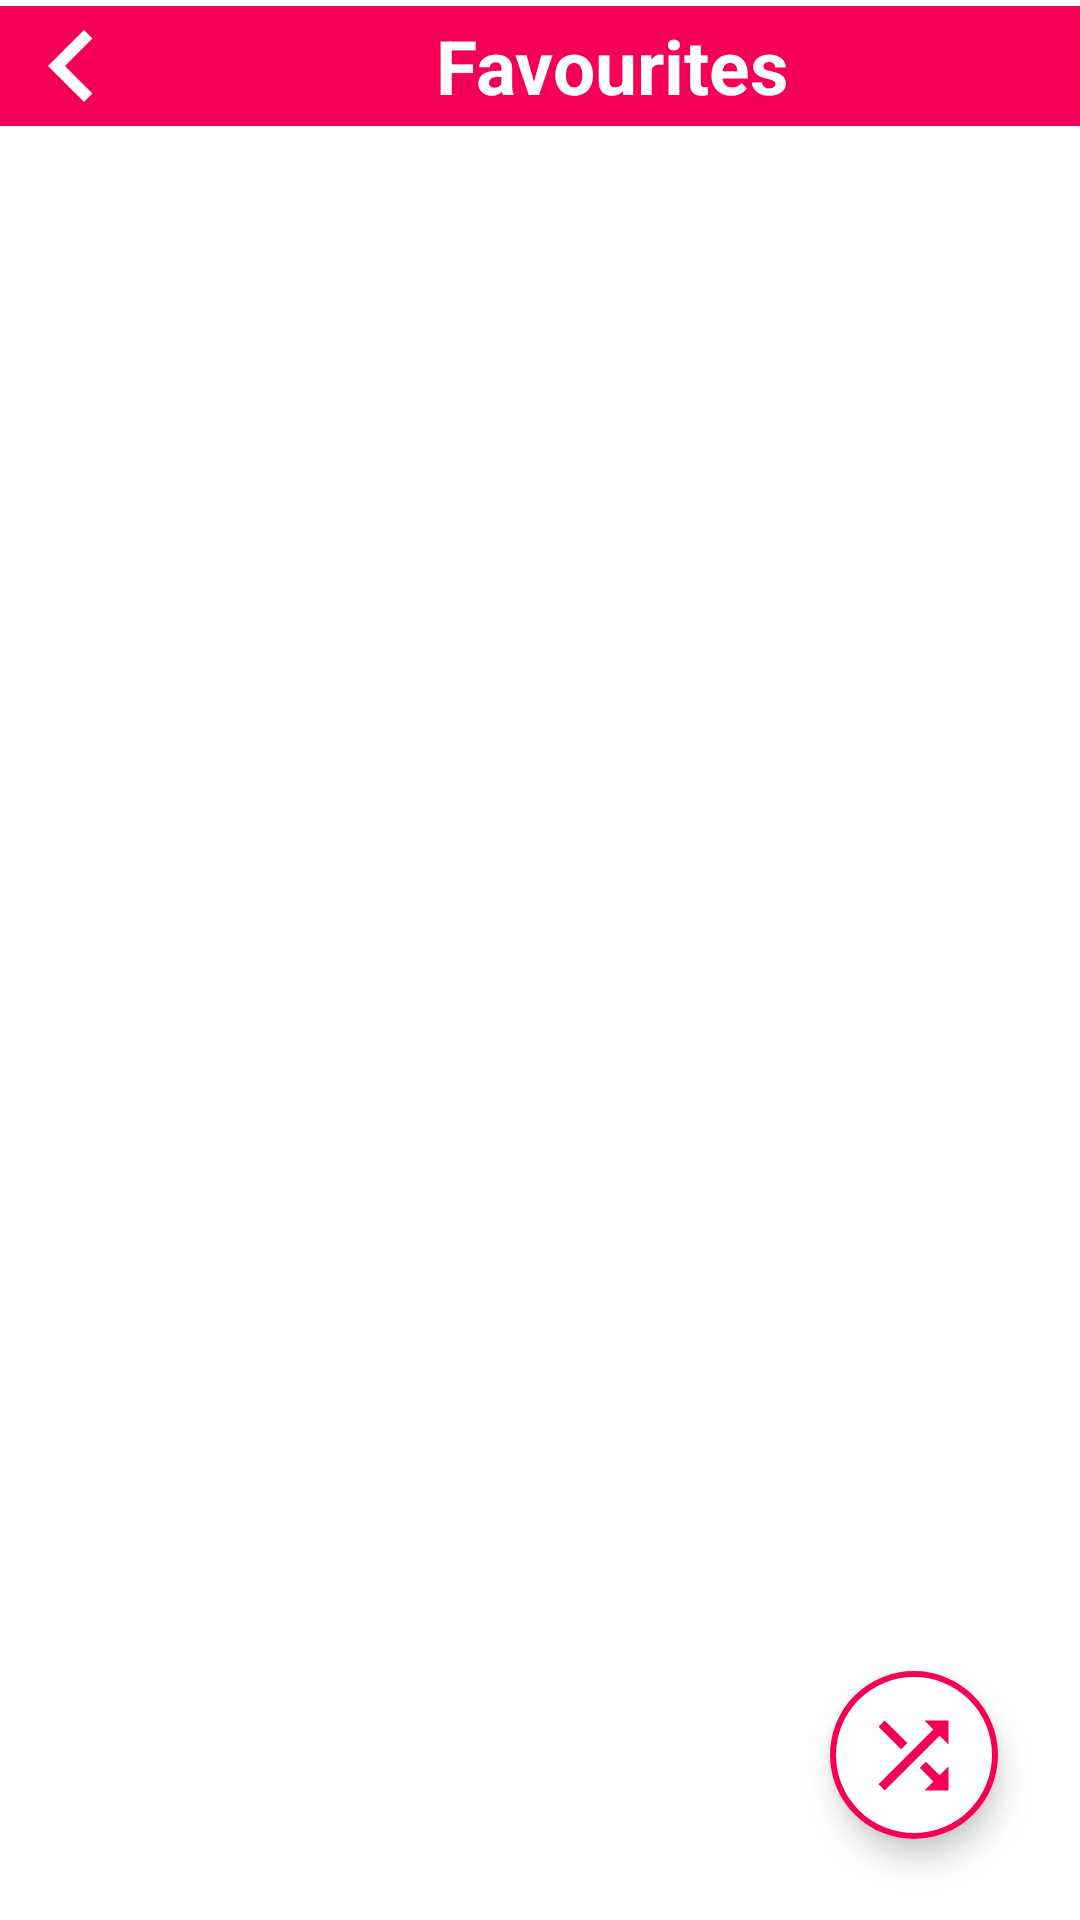

Screen size 1080 × 1920. Icon name, then its box in pixels as {"x1": x1, "y1": y1, "x2": x2, "y2": y2}:
Back: {"x1": 48, "y1": 30, "x2": 93, "y2": 102}
shuffle: {"x1": 830, "y1": 1671, "x2": 998, "y2": 1839}
